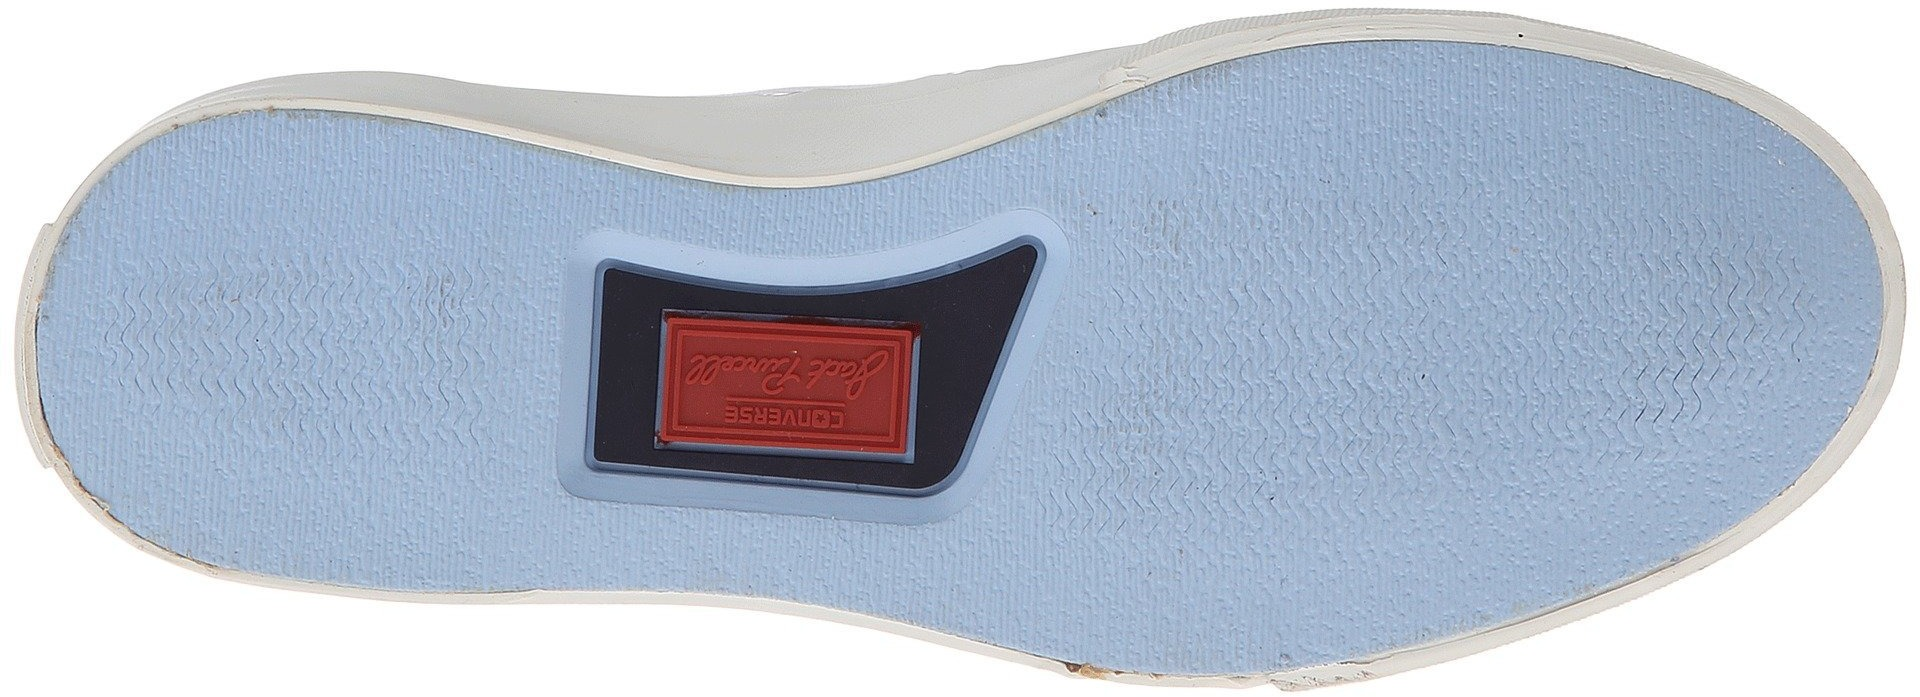chevron: (1102, 207, 1313, 416), (1517, 223, 1731, 428), (302, 254, 508, 452), (1320, 198, 1512, 403), (109, 263, 298, 448), (1127, 423, 1256, 566), (1320, 410, 1449, 526)
other: (1342, 45, 1485, 189), (1453, 486, 1578, 606)
text: (752, 341, 820, 412), (680, 334, 744, 401), (827, 341, 882, 415)
